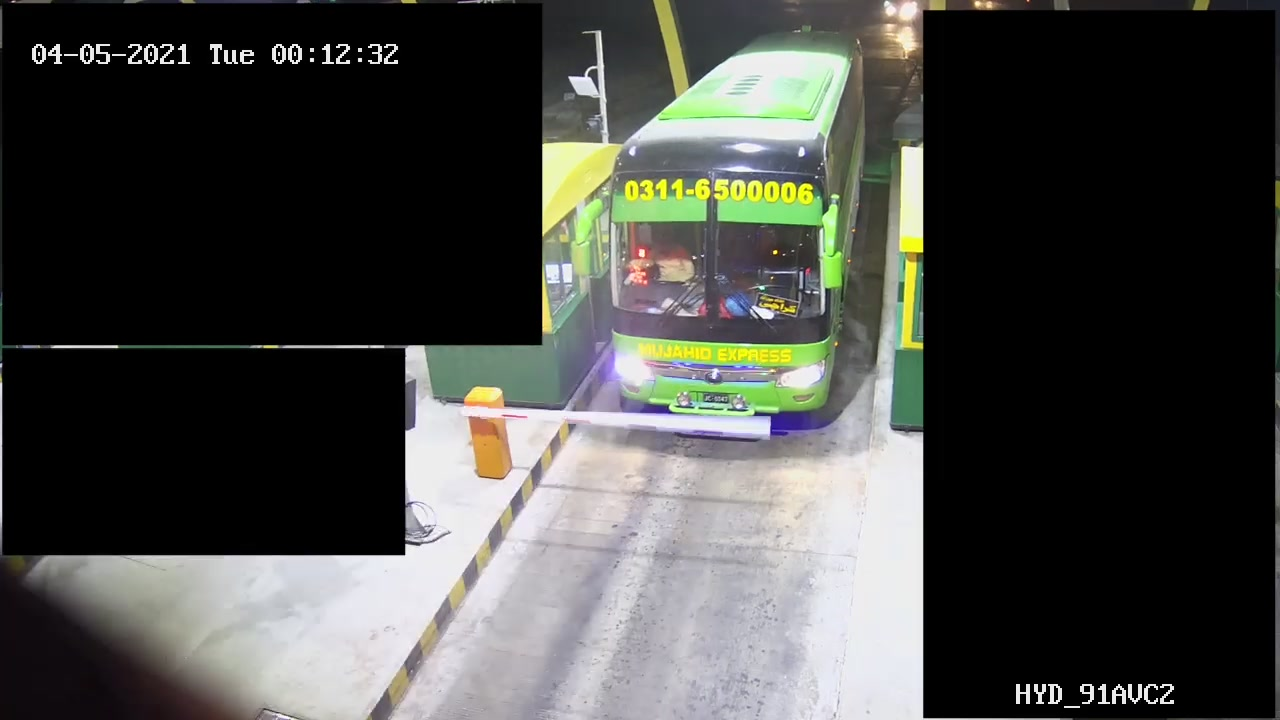F4: (609, 21, 867, 442)
